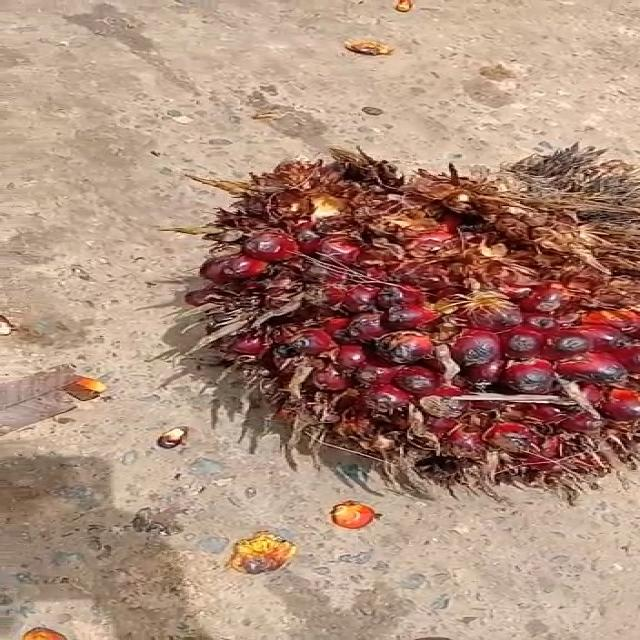palm oil: (168, 128, 640, 500)
